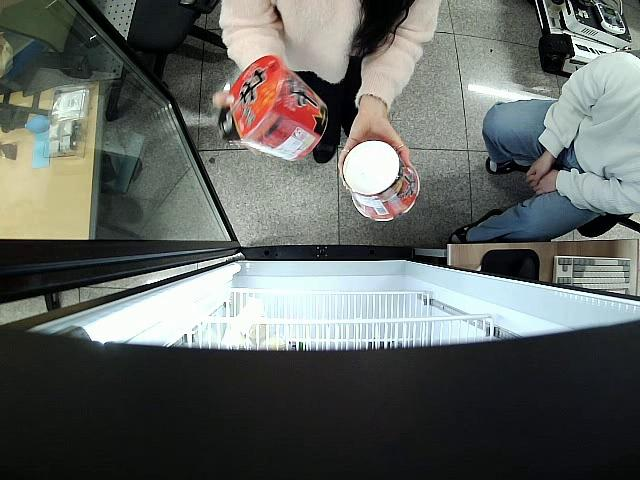00_hand: (339, 118, 413, 181)
01_shinRamen_L: (218, 56, 329, 162), (345, 140, 420, 222)
